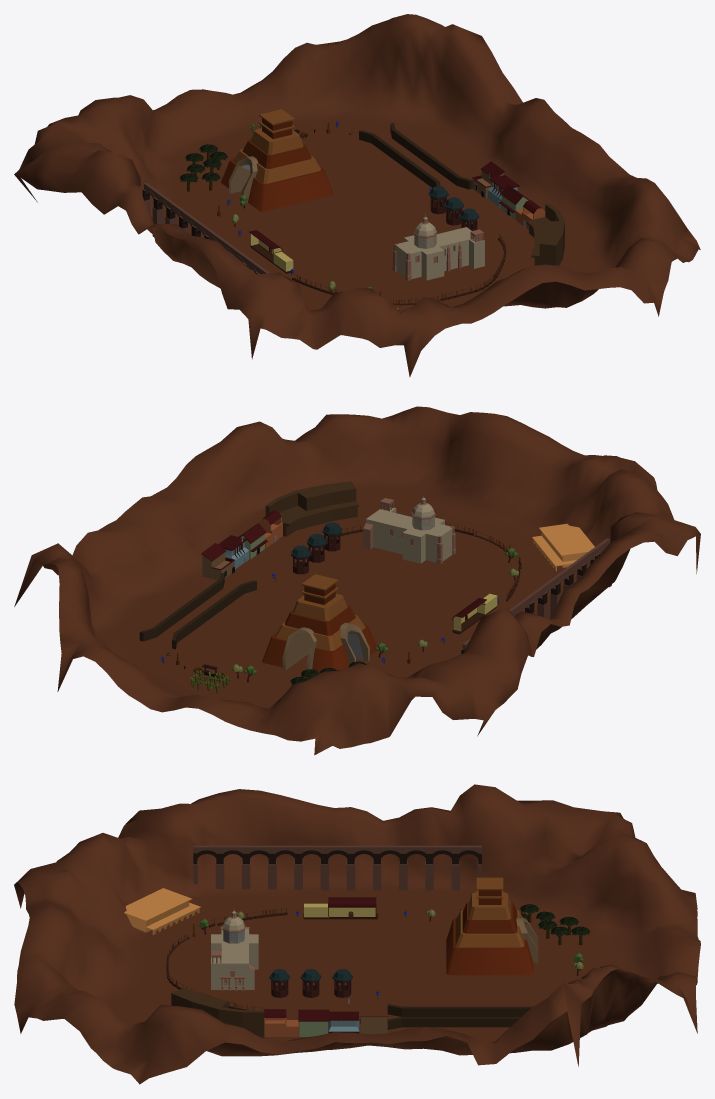
Rendered from Redesign_Mexico.fbx.
The picture shows the model from 3 angles, top to bottom: view 1: azimuth 30°, elevation 25°; view 2: azimuth 150°, elevation 25°; view 3: azimuth 270°, elevation 25°; orthographic projection. The views are drawn at different scales.
Visible parts, largest first — view 1: Arbol3, Pirámide, Iglesia, Callejon, Arcos, Casota, kioskos, Palmera, Tren, BoolTunel, Barandal, Casa 1 (+1 smaller); view 2: Arbol3, Pirámide, Iglesia, Casota, Callejon, Arcos, TiendaTequila, BoolTunel, kioskos, Tren, Casa 1, Casa 2 (+3 smaller); view 3: Arbol3, Arcos, Pirámide, Iglesia, Callejon, TiendaTequila, Casota, Tren, kioskos, Palmera, Casa 4, Casa 3 (+4 smaller).
Part boxes in pixels (x1,y1,x2,y2): Arbol3: [14, 14, 700, 377]; Pirámide: [221, 109, 333, 211]; Iglesia: [392, 213, 484, 280]; Callejon: [359, 122, 472, 189]; Arcos: [142, 183, 269, 274]; Casota: [526, 203, 564, 265]; kioskos: [428, 186, 479, 230]; Palmera: [179, 144, 227, 191]; Tren: [249, 230, 293, 273]; BoolTunel: [229, 156, 258, 202]; Barandal: [292, 234, 506, 305]; Casa 1: [472, 161, 504, 198]; Arbol3: [14, 406, 700, 755]; Pirámide: [262, 574, 376, 673]; Iglesia: [363, 494, 455, 564]; Casota: [265, 481, 358, 536]; Callejon: [139, 572, 256, 649]; Arcos: [461, 538, 611, 654]; TiendaTequila: [532, 523, 594, 571]; BoolTunel: [282, 622, 369, 670]; kioskos: [291, 522, 342, 574]; Tren: [452, 593, 497, 634]; Casa 1: [201, 543, 235, 580]; Casa 2: [218, 535, 248, 569]; Arbol3: [14, 784, 700, 1084]; Arcos: [193, 845, 481, 890]; Pirámide: [446, 877, 533, 975]; Iglesia: [211, 907, 258, 990]; Callejon: [387, 1004, 533, 1029]; TiendaTequila: [124, 888, 200, 934]; Casota: [171, 988, 264, 1037]; Tren: [303, 897, 378, 919]; kioskos: [269, 969, 352, 997]; Palmera: [519, 904, 590, 945]; Casa 4: [264, 1009, 298, 1036]; Casa 3: [298, 1009, 329, 1036].
Bounding box in the file's own units: 18329 × 3918 × 22634.
